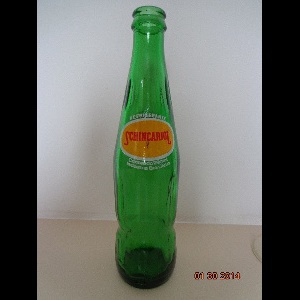emptybottle: (113, 6, 180, 289)
